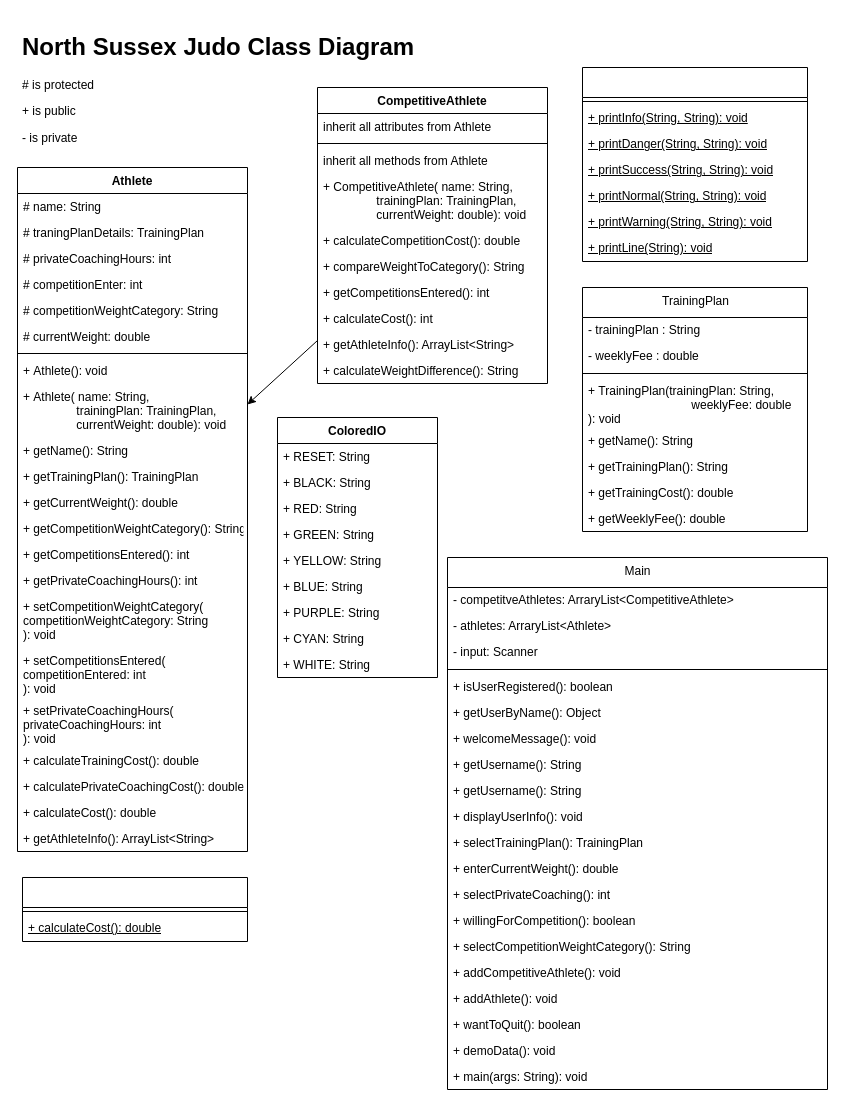
This 845x1109 diagram has some shape labels left out. Each missing label, with the box of its shape:
CostCalculator: (22, 876, 248, 942)
OutputUtil: (582, 66, 808, 262)
